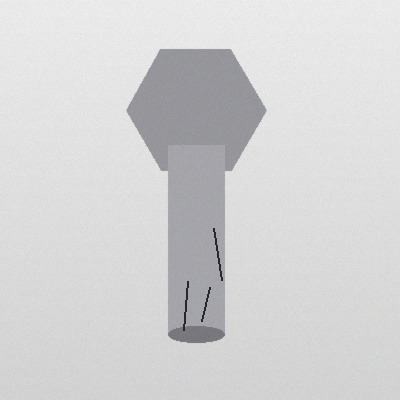scratch: (207, 224, 227, 284), (177, 277, 193, 334), (195, 283, 215, 325)
